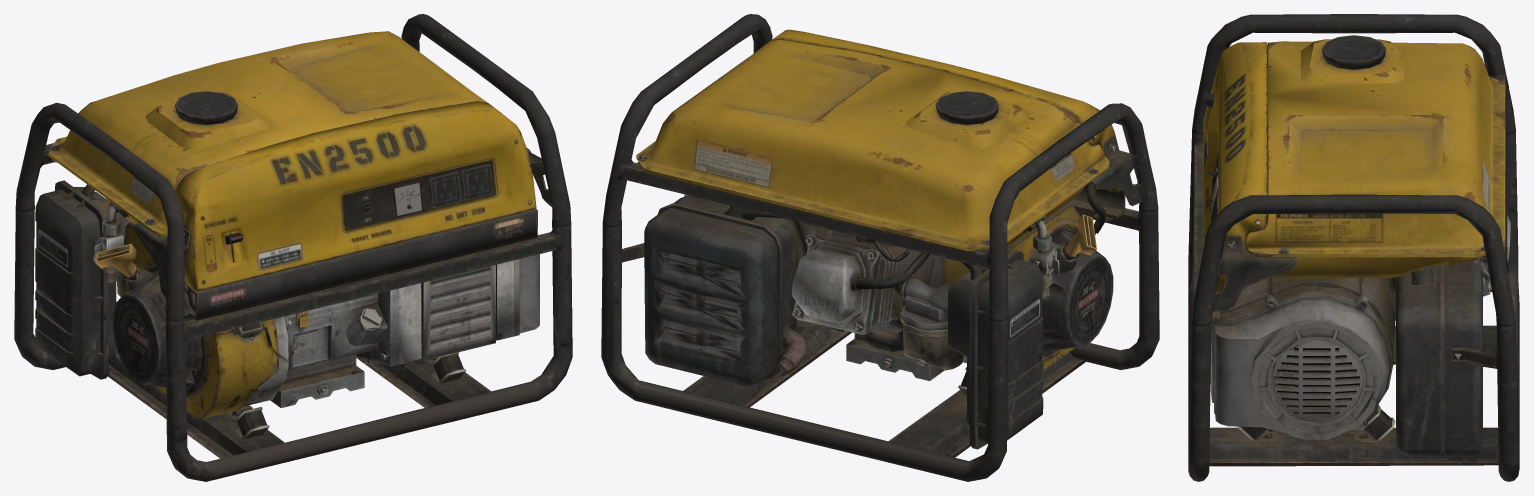
Rendered from portable-generator.glb.
3 renders of one model, left to right at view 1: azimuth 30°, elevation 25°; view 2: azimuth 150°, elevation 25°; view 3: azimuth 270°, elevation 25°, orthographic.
Parts seen in each view (by area): view 1: portable_generator; view 2: portable_generator; view 3: portable_generator.
Part boxes in pixels (x1=…): portable_generator: x1=14, y1=14, x2=572, y2=481; portable_generator: x1=601, y1=14, x2=1159, y2=481; portable_generator: x1=1188, y1=14, x2=1519, y2=481.
Size of the model in its own units: 0.8169 by 0.5752 by 0.564.
2 materials, 2 textured.
